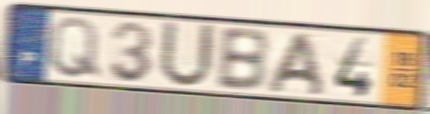3: (108, 19, 157, 85)
4: (332, 35, 375, 100)
A: (264, 29, 327, 98)
B: (214, 27, 271, 94)
Q: (47, 14, 103, 81)
U: (156, 18, 218, 91)
